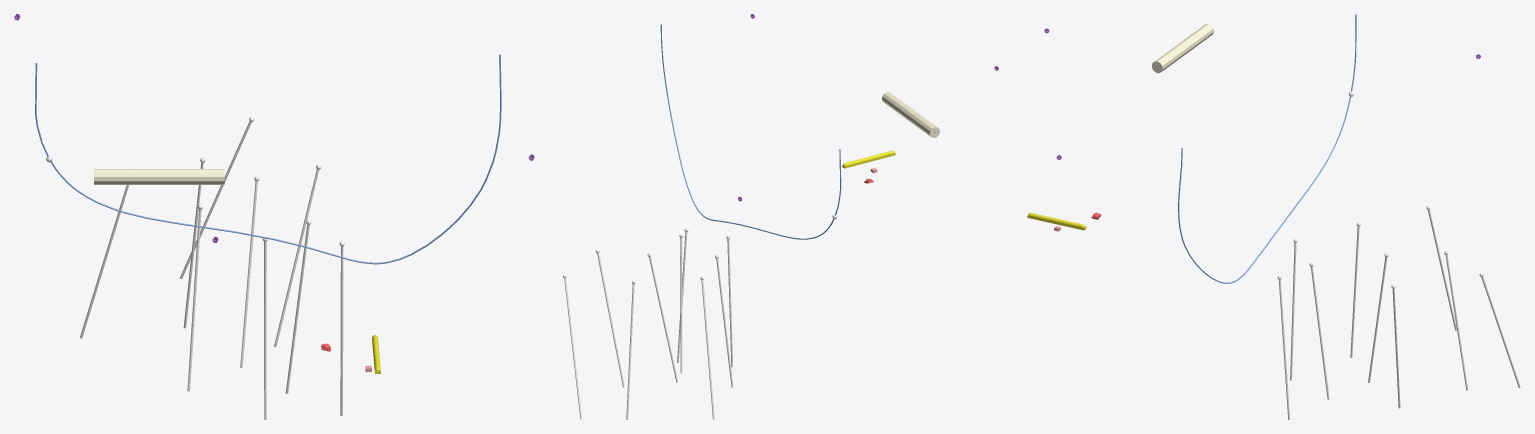
Rendered from tile_416.glb.
3 renders of one model, left to right at view 1: azimuth 30°, elevation 25°; view 2: azimuth 150°, elevation 25°; view 3: azimuth 270°, elevation 25°, orthographic. The views are drawn at different scales.
Size of the model in its own units: 6.95 by 6.56 by 9.57.
